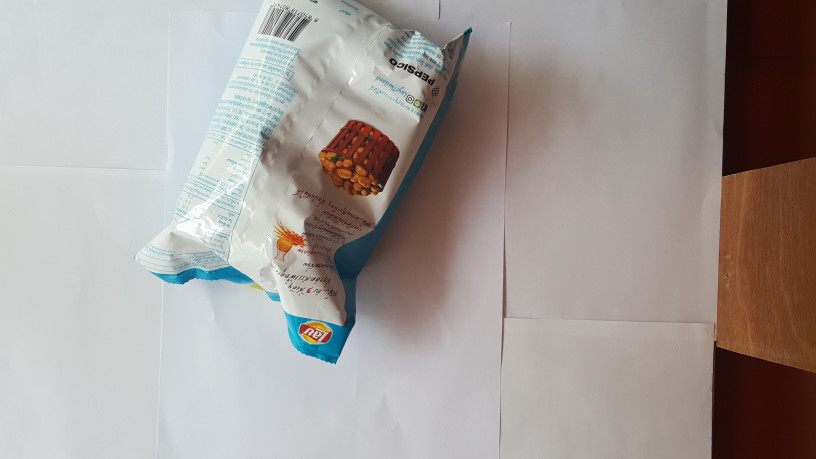lays-onion: (136, 1, 510, 345)
